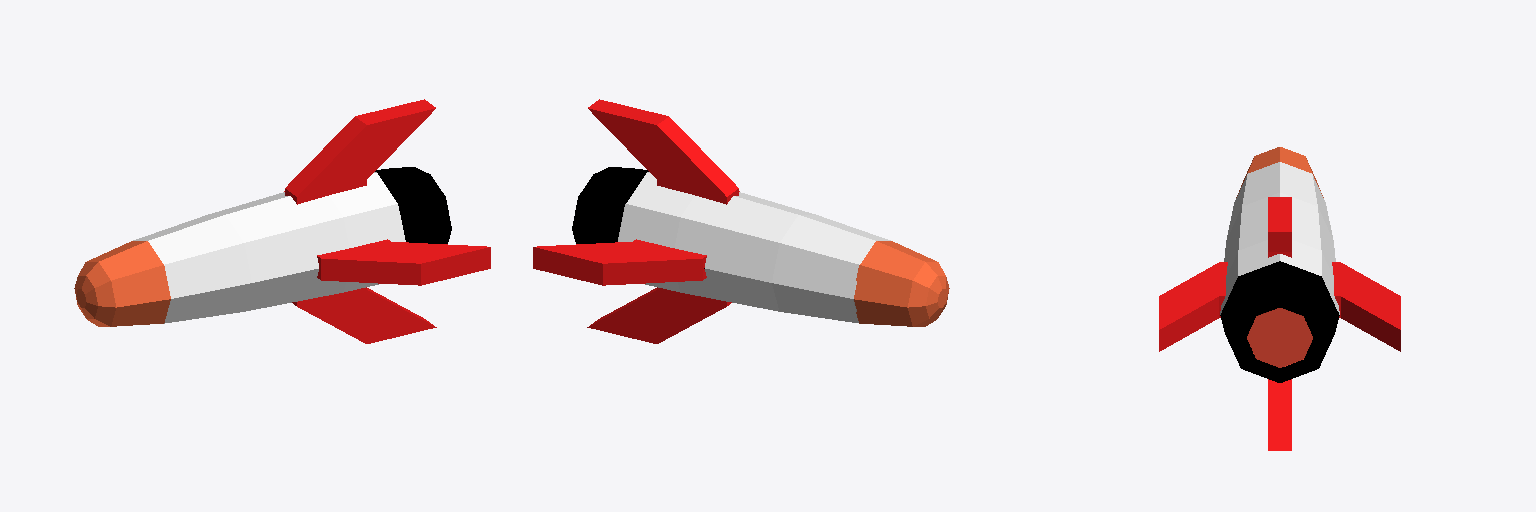
3 views of the same model, side by side, from view 1: azimuth 30°, elevation 25°; view 2: azimuth 150°, elevation 25°; view 3: azimuth 270°, elevation 25° (orthographic).
Visible parts, largest first — view 1: Cylinder.001; view 2: Cylinder.001; view 3: Cylinder.001.
Part boxes in pixels (x1,y1,x2,y2): Cylinder.001: (74,99,490,343); Cylinder.001: (533,99,949,343); Cylinder.001: (1159,147,1400,450).
Size of the model in its own units: 10 by 6 by 6.
Materials: 1 (1 with a texture image).